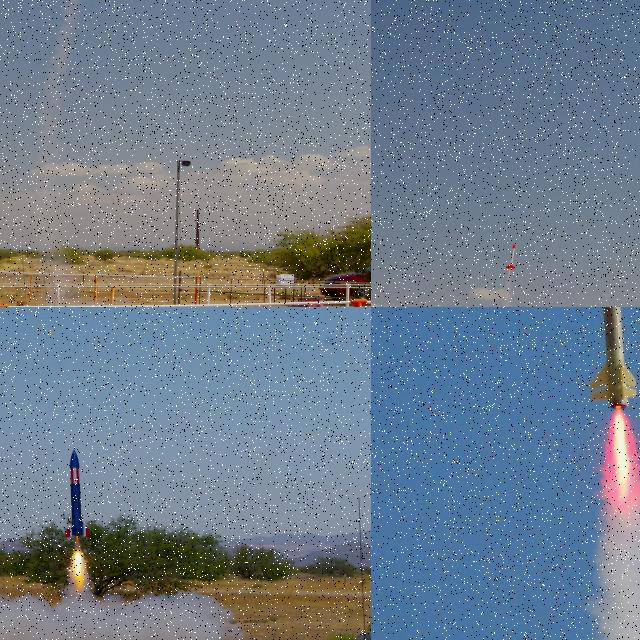Rocket: (588, 307, 639, 409), (66, 449, 90, 539), (506, 244, 516, 269)
